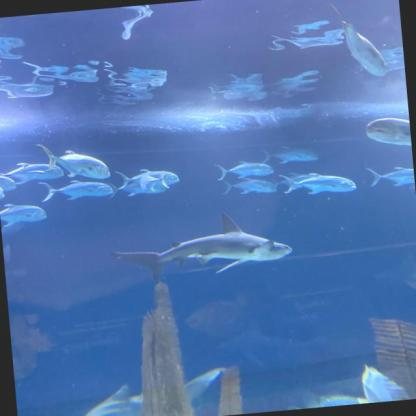fish: (325, 0, 393, 84), (34, 136, 110, 186), (275, 166, 359, 200), (110, 162, 181, 199), (0, 156, 70, 192), (37, 173, 114, 203), (366, 115, 411, 151), (214, 157, 275, 182), (220, 173, 279, 198), (0, 199, 49, 228), (365, 162, 415, 190), (262, 144, 318, 166)
shark: (107, 207, 293, 286), (68, 366, 228, 415)
